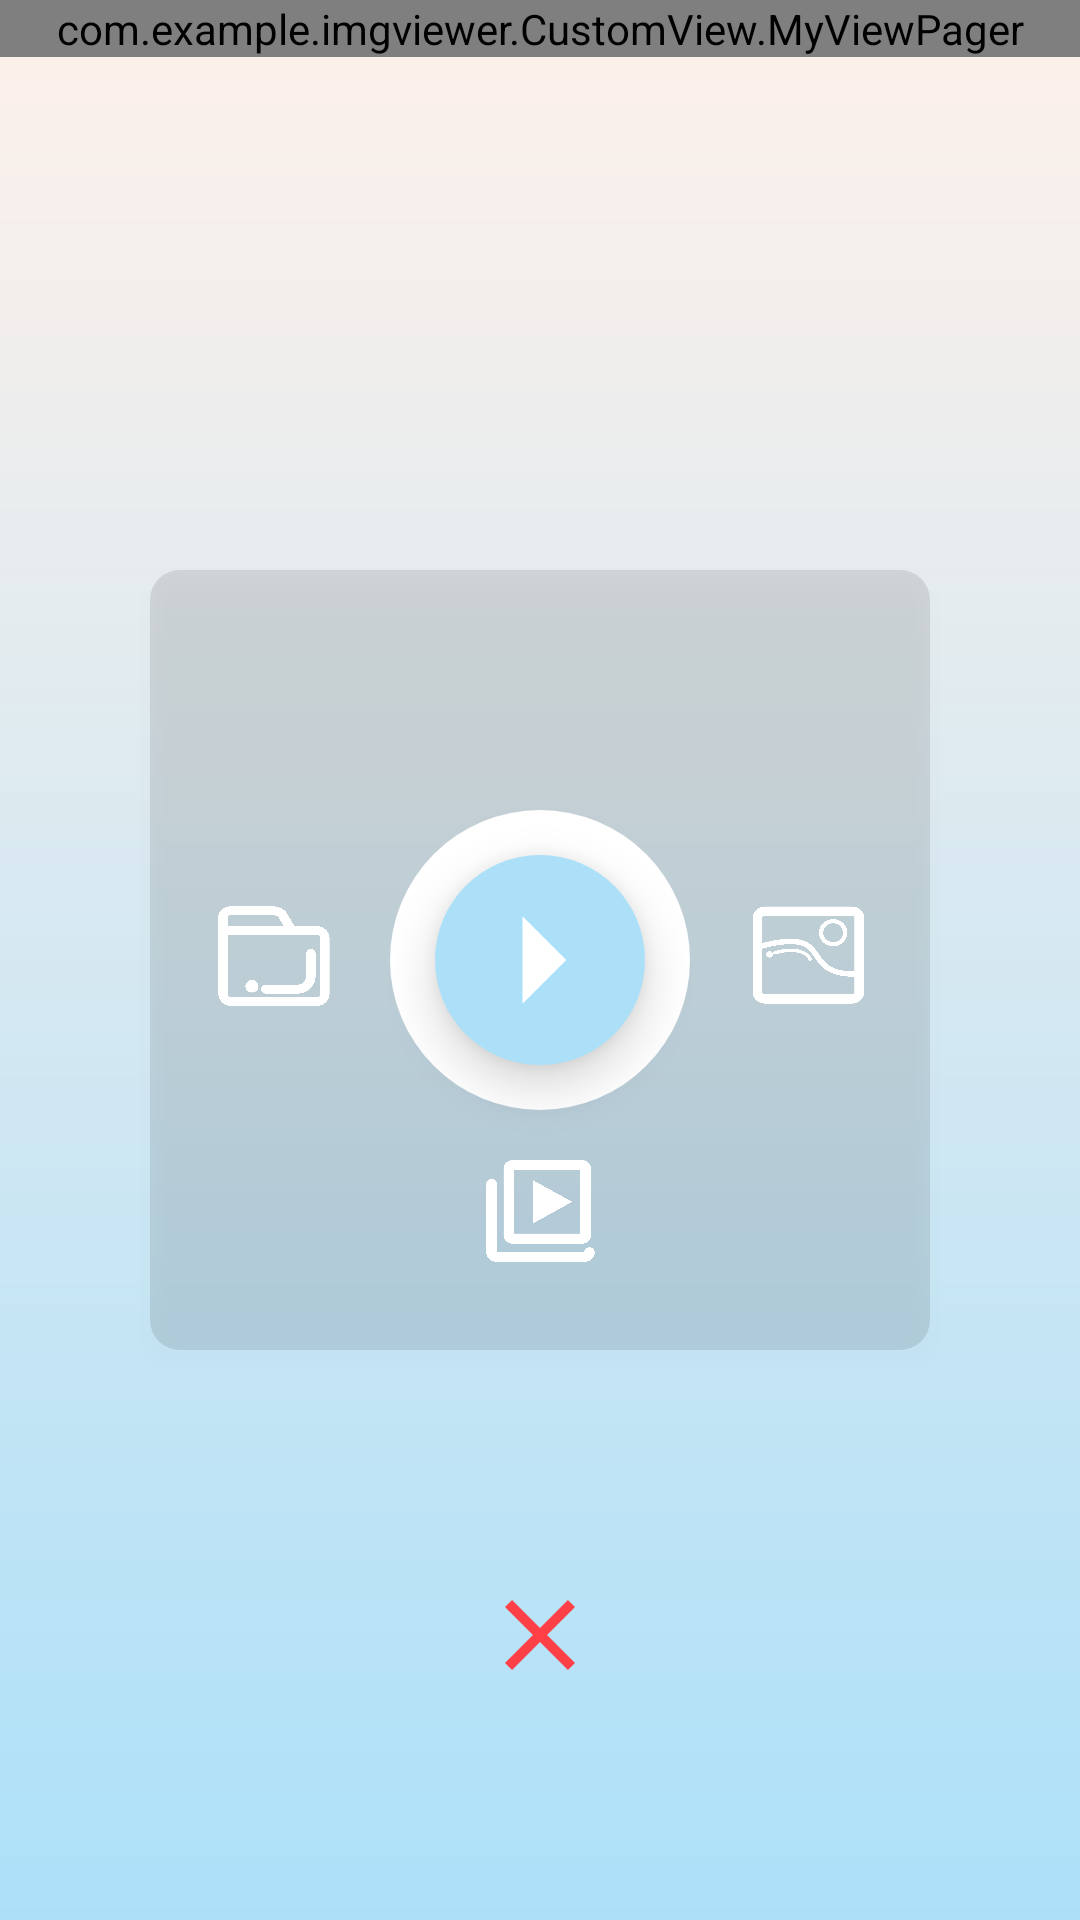

Screen size 1080x1920. Icon name, then its center in pixels as [x,y]:
folder: [274,956]
maindelete allpage: [540,1635]
video: [540,1211]
